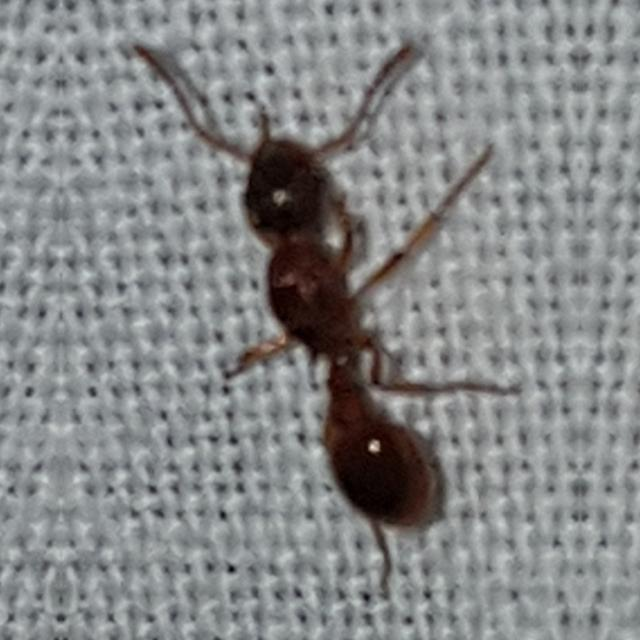Myrmica: (128, 47, 530, 563)
